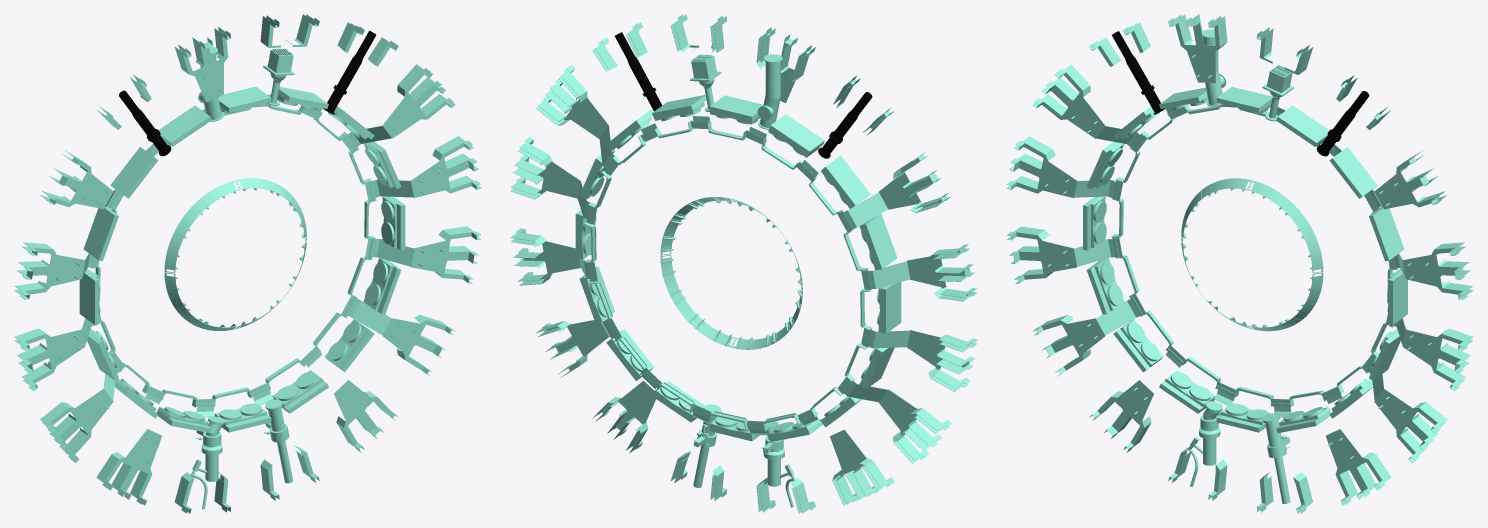
File: Gap-region-serv-cut1.glb
3 views of the same model, side by side, from view 1: azimuth 30°, elevation 25°; view 2: azimuth 150°, elevation 25°; view 3: azimuth 330°, elevation 25° (orthographic).
Parts seen in each view (by area): view 1: cabl tray.001, el box.001, inlet outlet.001, Lar Pump.001, Lar by pas.001, The Unnit.001; view 2: cabl tray.001, el box.001, inlet outlet.001, Safety Line.001, Lar Pump.001, Lar by pas.001, The Unnit.001; view 3: cabl tray.001, el box.001, inlet outlet.001, Lar Pump.001, Lar by pas.001, The Unnit.001, Safety Line.001.
Part boxes in pixels (left/top/right/bottom): cabl tray.001: left=14, top=14, right=481, bottom=513; el box.001: left=79, top=86, right=405, bottom=433; inlet outlet.001: left=119, top=30, right=376, bottom=156; Lar Pump.001: left=190, top=416, right=225, bottom=509; Lar by pas.001: left=264, top=399, right=293, bottom=483; The Unnit.001: left=263, top=48, right=294, bottom=105; cabl tray.001: left=510, top=14, right=977, bottom=513; el box.001: left=575, top=95, right=901, bottom=441; inlet outlet.001: left=614, top=32, right=872, bottom=158; Safety Line.001: left=757, top=54, right=782, bottom=129; Lar Pump.001: left=762, top=421, right=795, bottom=507; Lar by pas.001: left=693, top=404, right=721, bottom=487; The Unnit.001: left=690, top=54, right=721, bottom=111; cabl tray.001: left=1006, top=14, right=1473, bottom=513; el box.001: left=1083, top=87, right=1407, bottom=433; inlet outlet.001: left=1112, top=31, right=1369, bottom=156; Lar Pump.001: left=1188, top=401, right=1222, bottom=486; Lar by pas.001: left=1262, top=415, right=1290, bottom=503; The Unnit.001: left=1262, top=65, right=1293, bottom=121; Safety Line.001: left=1202, top=29, right=1226, bottom=106.
Bounding box in the file's own units: 8.64 × 8.64 × 0.741.
